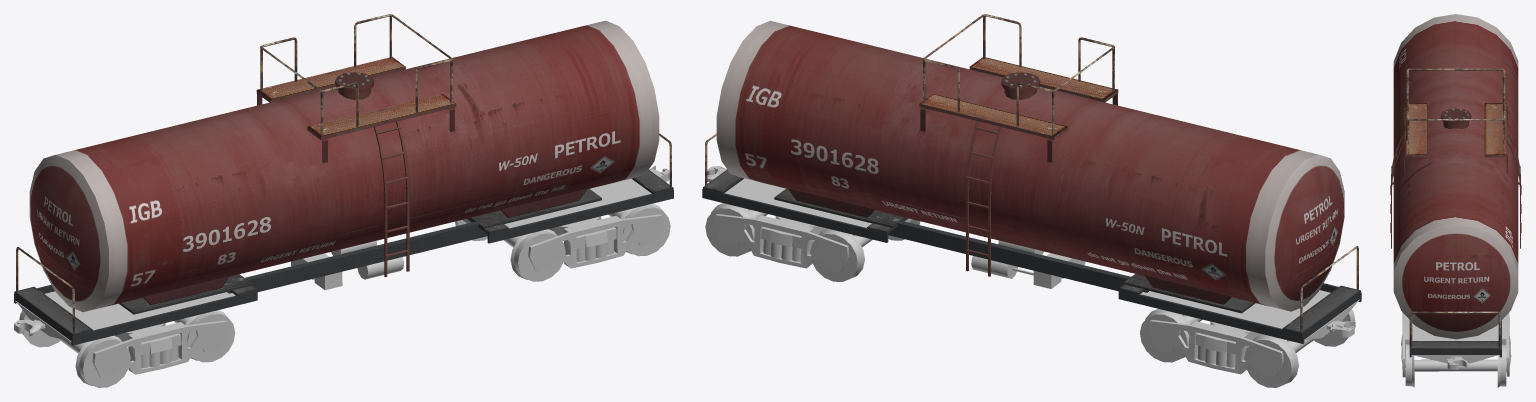
File: TrainTanker03.FBX
The picture shows the model from 3 angles, left to right: view 1: azimuth 30°, elevation 25°; view 2: azimuth 150°, elevation 25°; view 3: azimuth 270°, elevation 25°; orthographic projection. The views are drawn at different scales.
Visible parts, largest first — view 1: TrainTanker03, TrainTanker03Wheels, TrainTanker0DetailBlack, TrainTanker03Down; view 2: TrainTanker03, TrainTanker03Wheels, TrainTanker0DetailBlack, TrainTanker03Down; view 3: TrainTanker03, TrainTanker03Wheels, TrainTanker0DetailBlack, TrainTanker03Down.
Part boxes in pixels (box(x1,y1,x2,y2)): TrainTanker03: box(16, 14, 671, 333); TrainTanker03Wheels: box(19, 203, 670, 387); TrainTanker0DetailBlack: box(14, 170, 673, 345); TrainTanker03Down: box(14, 165, 669, 341); TrainTanker03: box(705, 14, 1358, 332); TrainTanker03Wheels: box(705, 203, 1355, 387); TrainTanker0DetailBlack: box(702, 169, 1361, 343); TrainTanker03Down: box(707, 166, 1359, 340); TrainTanker03: box(1390, 14, 1521, 348); TrainTanker03Wheels: box(1401, 312, 1511, 387); TrainTanker0DetailBlack: box(1409, 320, 1501, 357); TrainTanker03Down: box(1412, 323, 1498, 369).
Size of the model in its own units: 19420 by 7027 by 4327.
